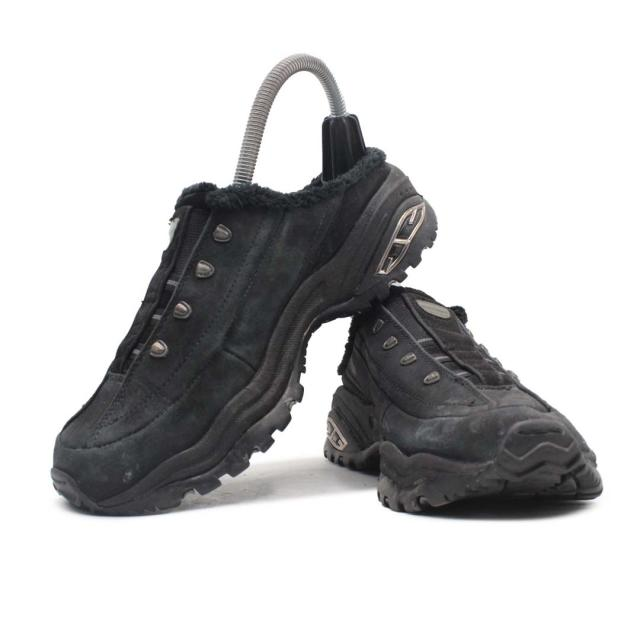heel: (332, 144, 392, 213)
midsole: (51, 163, 443, 513), (323, 387, 602, 512)
uppersole: (52, 177, 359, 496), (341, 288, 570, 460)
